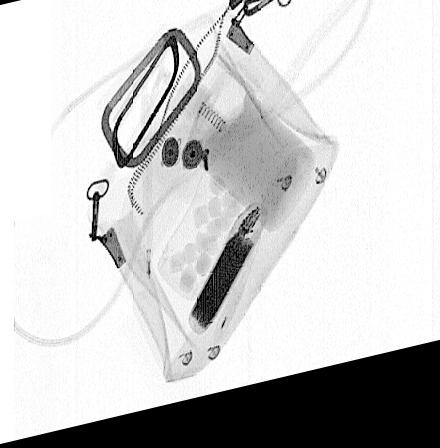Powerbank: (187, 215, 269, 345)
